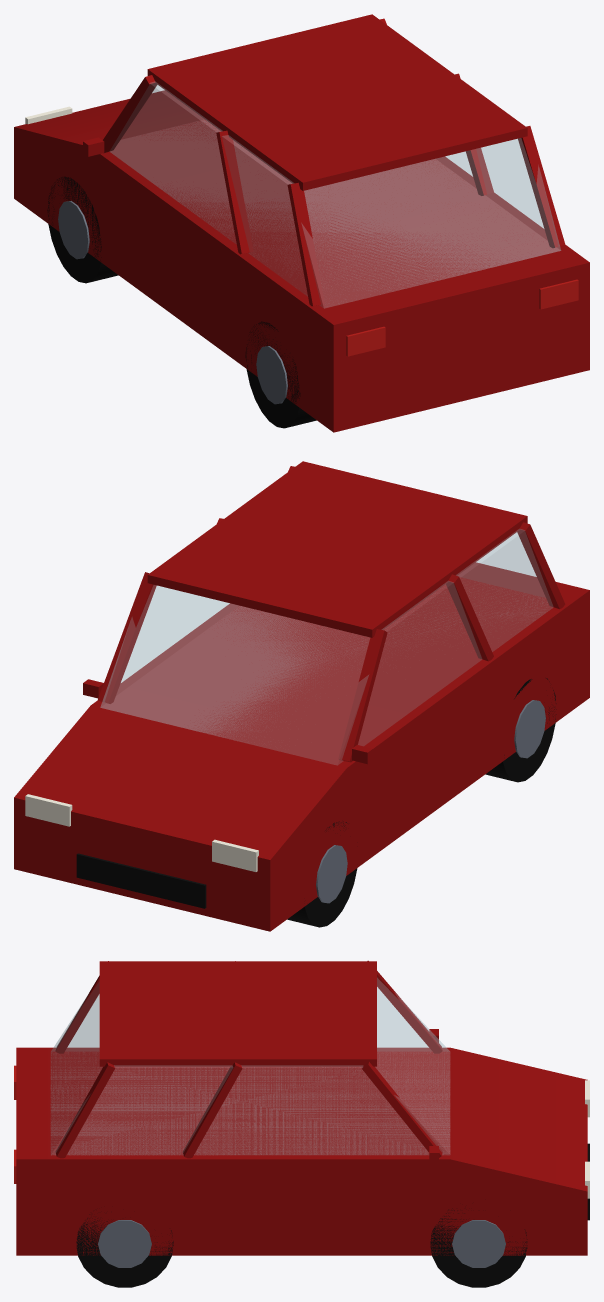
The model's file is vehicle.car.city_red.glb.
3 renders of one model, top to bottom at view 1: azimuth 30°, elevation 25°; view 2: azimuth 150°, elevation 25°; view 3: azimuth 270°, elevation 25°, orthographic. The views are drawn at different scales.
Visible parts, largest first — view 1: main__car_red, main__glass, main__rubber, main__steel_painted, main__hazard_red; view 2: main__car_red, main__glass, main__plastic_black, main__rubber, main__steel_painted, main__light_emitter; view 3: main__car_red, main__glass, main__rubber, main__steel_painted.
Part boxes in pixels (<box>): main__car_red: <box>14,14,589,432</box>; main__glass: <box>109,82,560,308</box>; main__rubber: <box>47,176,316,428</box>; main__steel_painted: <box>58,201,287,404</box>; main__hazard_red: <box>346,279,578,356</box>; main__car_red: <box>14,461,589,931</box>; main__glass: <box>100,529,552,764</box>; main__plastic_black: <box>76,853,206,908</box>; main__rubber: <box>287,678,556,927</box>; main__steel_painted: <box>316,700,545,903</box>; main__light_emitter: <box>25,794,258,871</box>; main__car_red: <box>16,960,587,1255</box>; main__glass: <box>51,978,449,1154</box>; main__rubber: <box>76,1208,527,1287</box>; main__steel_painted: <box>98,1220,505,1267</box>.
Size of the model in its own units: 1.8 by 1.5 by 3.53.
